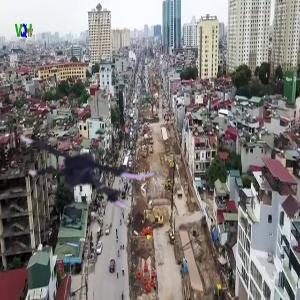drone: (20, 89, 160, 229)
